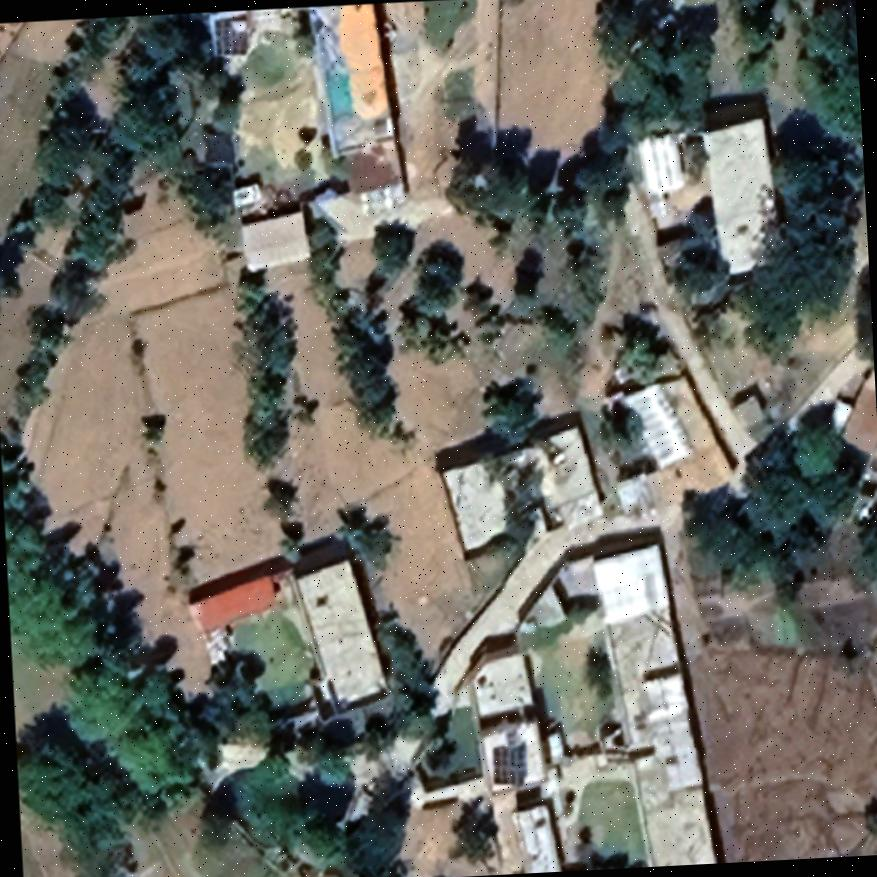Solarpanel: (490, 742, 526, 789), (212, 15, 245, 58)
